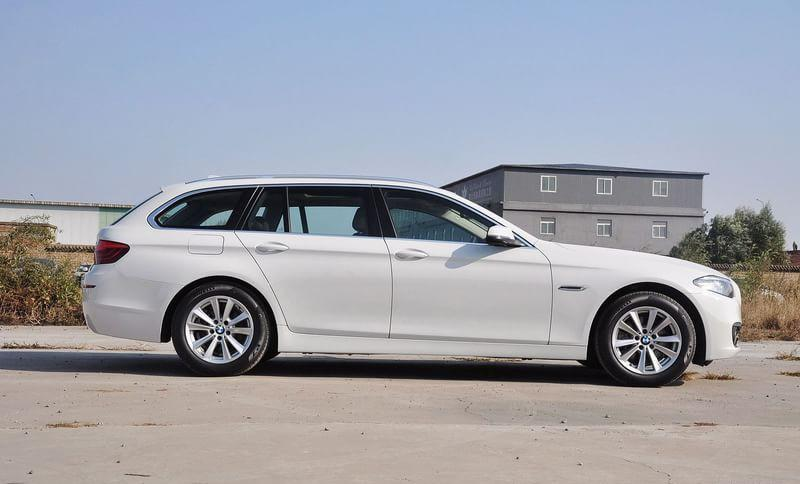Wagon: (80, 174, 744, 388)
